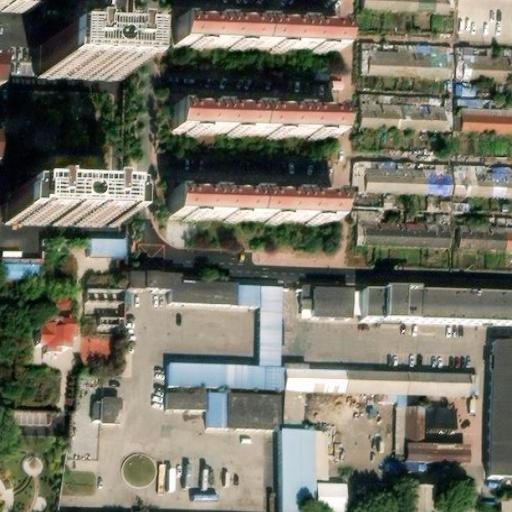building: (178, 16, 344, 55), (359, 281, 512, 320), (169, 189, 338, 223), (285, 366, 473, 396), (172, 105, 342, 138), (14, 191, 127, 231), (357, 213, 456, 253), (238, 284, 286, 366), (359, 94, 452, 131), (40, 39, 127, 78), (169, 362, 286, 391), (488, 338, 512, 476), (360, 42, 451, 78), (279, 429, 317, 512), (148, 270, 238, 304), (367, 168, 454, 197), (375, 393, 408, 457), (40, 299, 79, 352), (228, 393, 282, 430), (453, 166, 512, 199), (81, 282, 128, 323), (457, 46, 512, 81), (453, 80, 511, 108), (405, 439, 472, 462), (362, 0, 456, 16), (314, 287, 360, 315), (461, 109, 512, 133), (461, 227, 512, 251), (314, 483, 351, 512), (9, 405, 55, 426), (168, 387, 209, 409), (2, 258, 42, 280), (284, 389, 305, 427), (315, 430, 330, 483), (94, 396, 123, 423), (208, 392, 229, 428), (406, 407, 427, 440), (91, 238, 127, 257), (416, 483, 437, 512), (425, 428, 464, 442), (300, 284, 315, 307), (130, 269, 148, 286), (456, 507, 482, 512)
